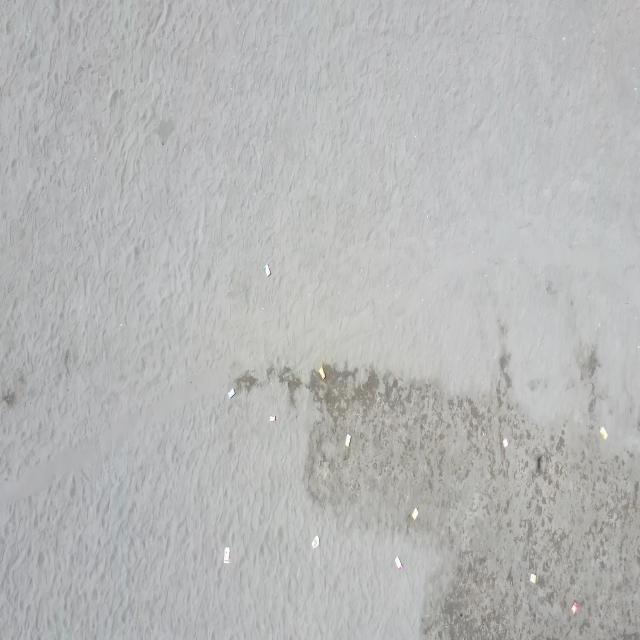Garbage: (571, 601, 580, 613), (599, 427, 607, 439), (263, 263, 270, 276), (344, 433, 350, 447), (395, 555, 402, 567), (223, 547, 228, 563), (227, 387, 235, 397), (318, 366, 324, 379), (528, 573, 535, 583), (312, 536, 318, 547), (412, 507, 417, 520), (502, 438, 507, 447), (268, 415, 275, 420)
